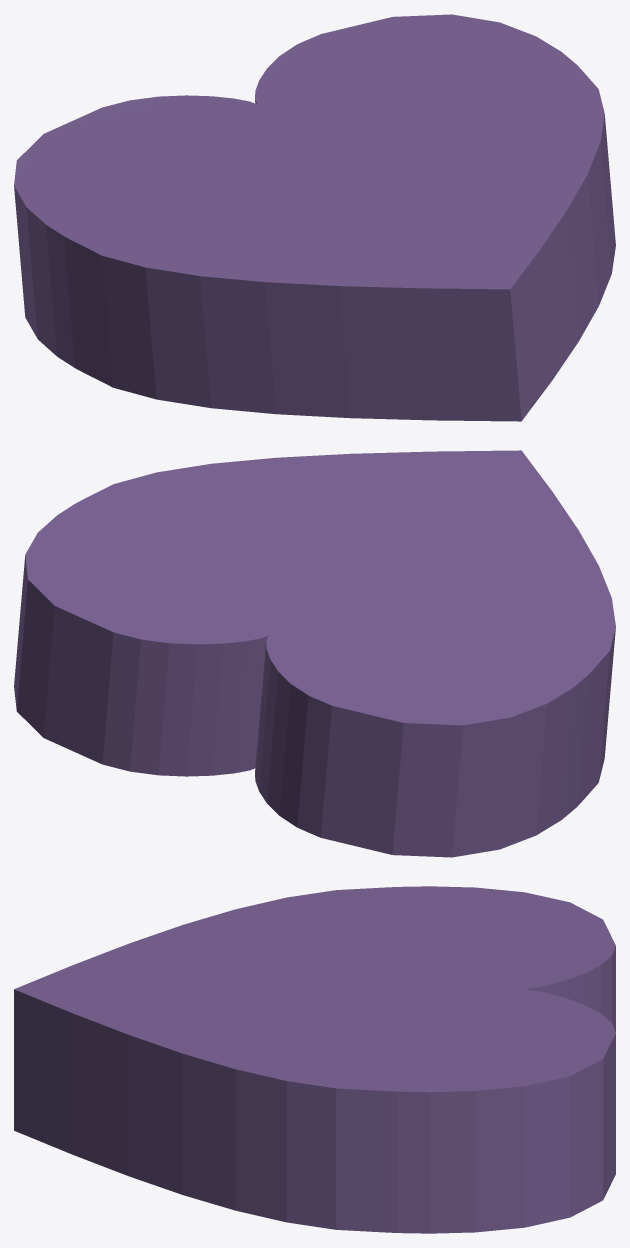
The model's file is UVU.glb.
The picture shows the model from 3 angles, top to bottom: view 1: azimuth 30°, elevation 25°; view 2: azimuth 150°, elevation 25°; view 3: azimuth 270°, elevation 25°; orthographic projection.
Parts seen in each view (by area): view 1: Mesh_Mesh_head_geo.001_lambert2SG.001; view 2: Mesh_Mesh_head_geo.001_lambert2SG.001; view 3: Mesh_Mesh_head_geo.001_lambert2SG.001.
Part boxes in pixels (x1,y1,x2,y2): Mesh_Mesh_head_geo.001_lambert2SG.001: (14,14,615,421); Mesh_Mesh_head_geo.001_lambert2SG.001: (14,450,615,857); Mesh_Mesh_head_geo.001_lambert2SG.001: (14,886,615,1233).
Bounding box in the file's own units: 0.0204 × 0.00672 × 0.02.
